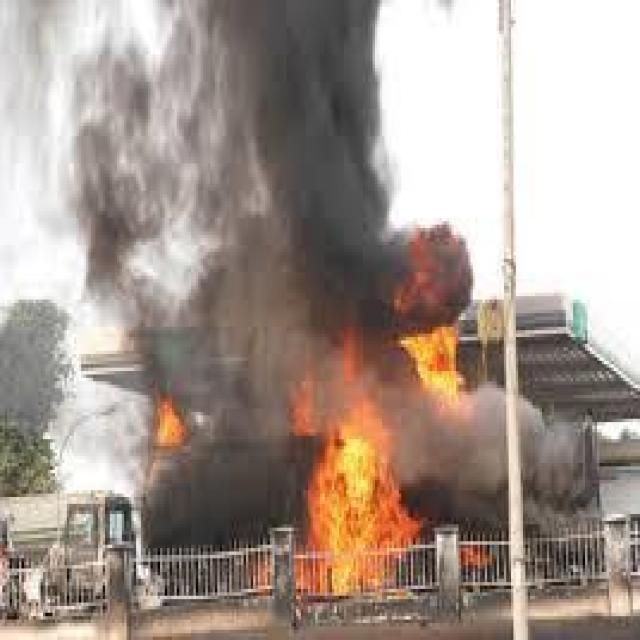fire: (291, 306, 481, 606), (149, 382, 187, 451)
smoke: (1, 0, 543, 497)
